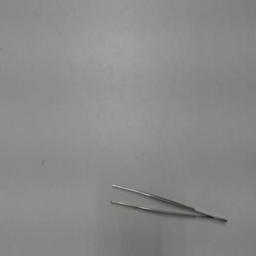Gillies Toothed Dissector: (104, 180, 230, 228)
